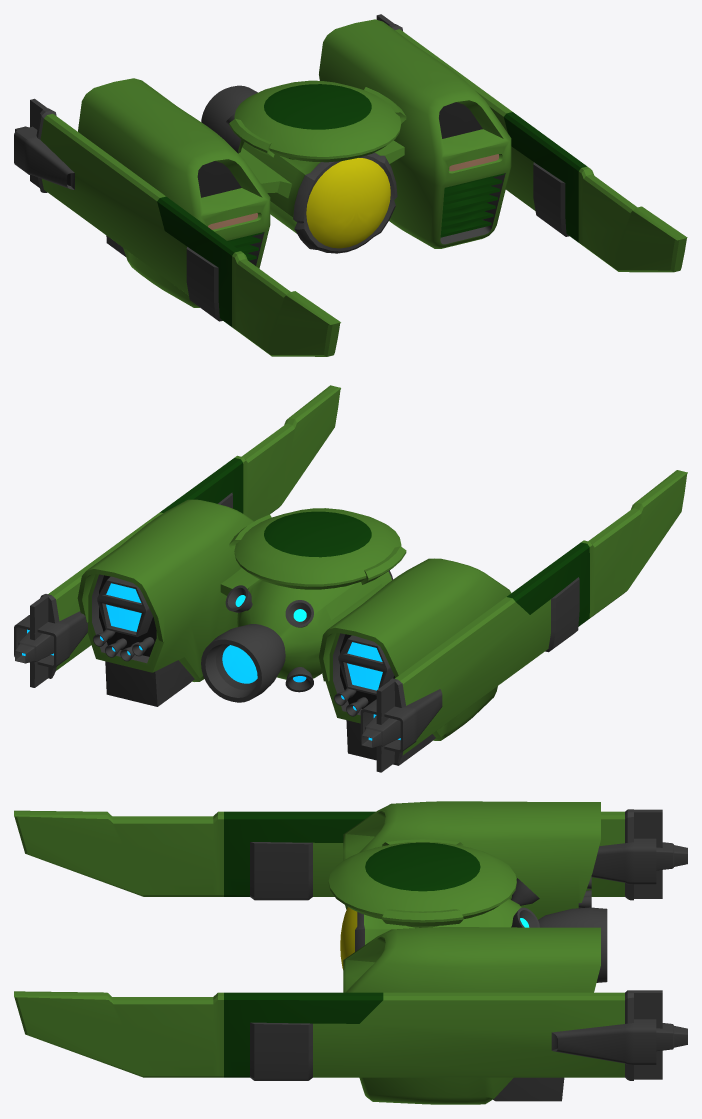
3 renders of one model, top to bottom at view 1: azimuth 30°, elevation 25°; view 2: azimuth 150°, elevation 25°; view 3: azimuth 270°, elevation 25°, orthographic. The views are drawn at different scales.
Visible parts, largest first — view 1: ShipPart_555, ShipPart_2, ShipPart_119, ShipPart_532, ShipPart_142; view 2: ShipPart_555, ShipPart_2, ShipPart_119, ShipPart_532, ShipPart_142; view 3: ShipPart_142, ShipPart_555, ShipPart_119, ShipPart_2, ShipPart_532.
Part boxes in pixels (bbox=[...]): ShipPart_555: bbox=[14, 98, 340, 356]; ShipPart_2: bbox=[201, 80, 406, 253]; ShipPart_119: bbox=[319, 19, 511, 248]; ShipPart_532: bbox=[78, 78, 270, 307]; ShipPart_142: bbox=[376, 14, 687, 272]; ShipPart_555: bbox=[360, 470, 687, 772]; ShipPart_2: bbox=[201, 508, 406, 702]; ShipPart_119: bbox=[77, 499, 253, 706]; ShipPart_532: bbox=[319, 558, 511, 765]; ShipPart_142: bbox=[14, 385, 340, 687]; ShipPart_142: bbox=[14, 990, 687, 1080]; ShipPart_555: bbox=[14, 809, 687, 900]; ShipPart_119: bbox=[343, 927, 600, 1104]; ShipPart_2: bbox=[328, 839, 607, 982]; ShipPart_532: bbox=[343, 801, 600, 919].
Size of the model in its own units: 8.51 by 3.19 by 11.94.
